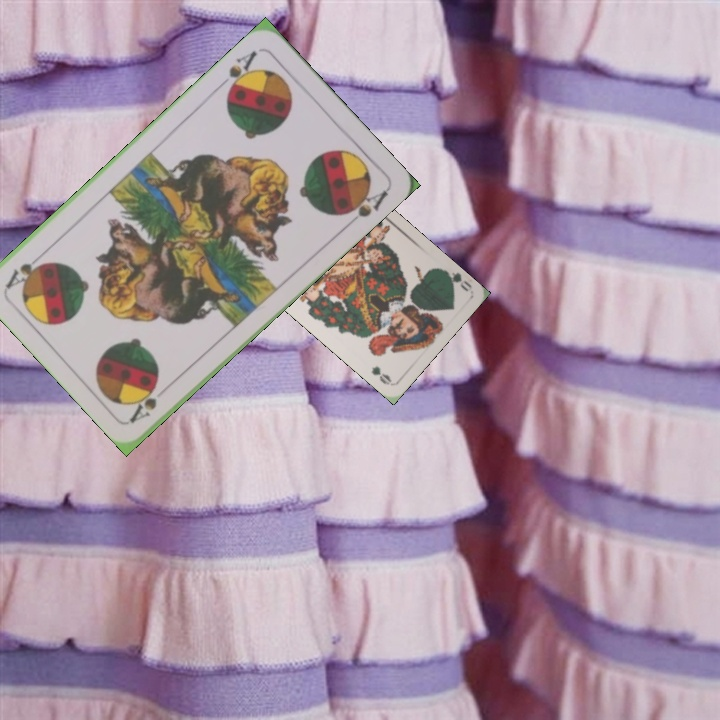GO: (437, 264, 474, 294)
SA: (126, 379, 174, 425), (223, 46, 260, 98)
